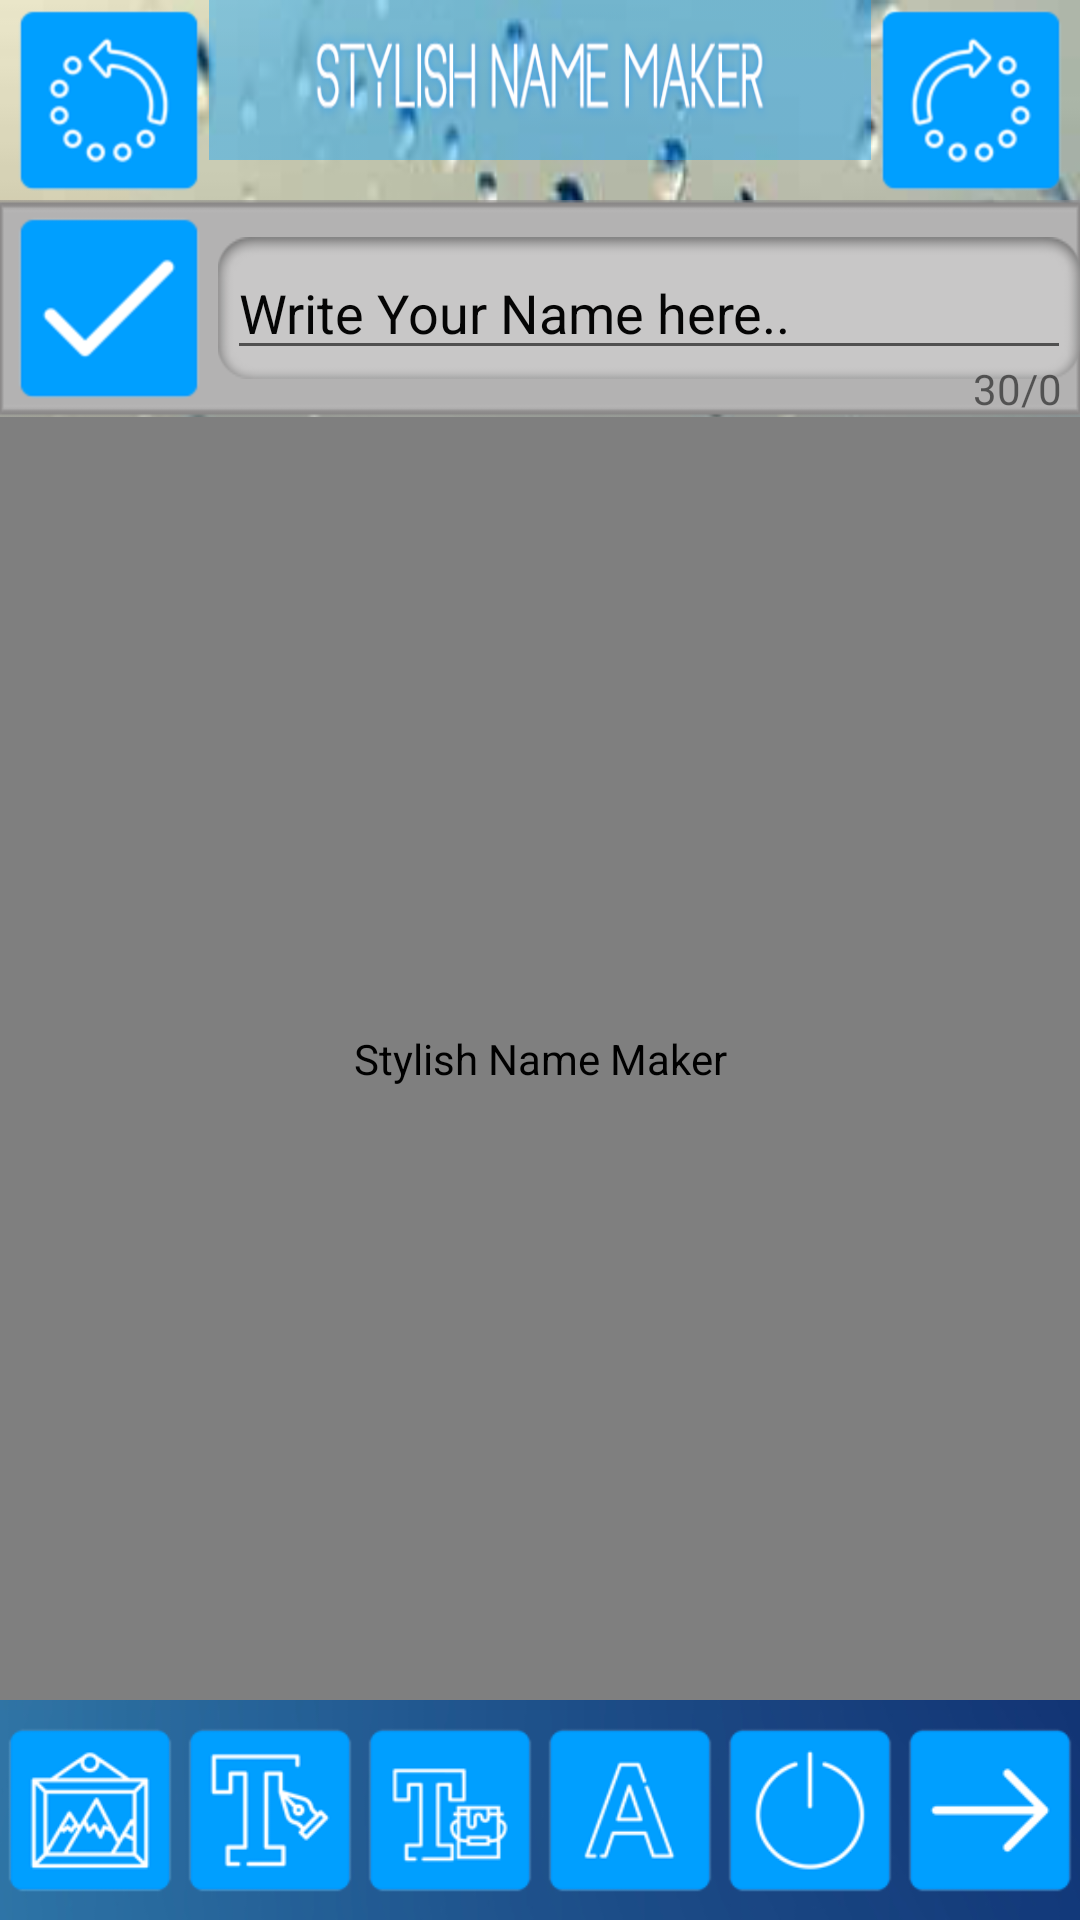

Icon click points for this 1080px×1920px phone screenshot, format (x=x, y=y):
done: (x=109, y=308)
edit text: (x=270, y=1810)
font: (x=629, y=1810)
frames: (x=89, y=1810)
nextbtn: (x=990, y=1810)
redobtn: (x=971, y=100)
reset: (x=810, y=1810)
text: (x=449, y=1810)
undobtn: (x=109, y=100)
